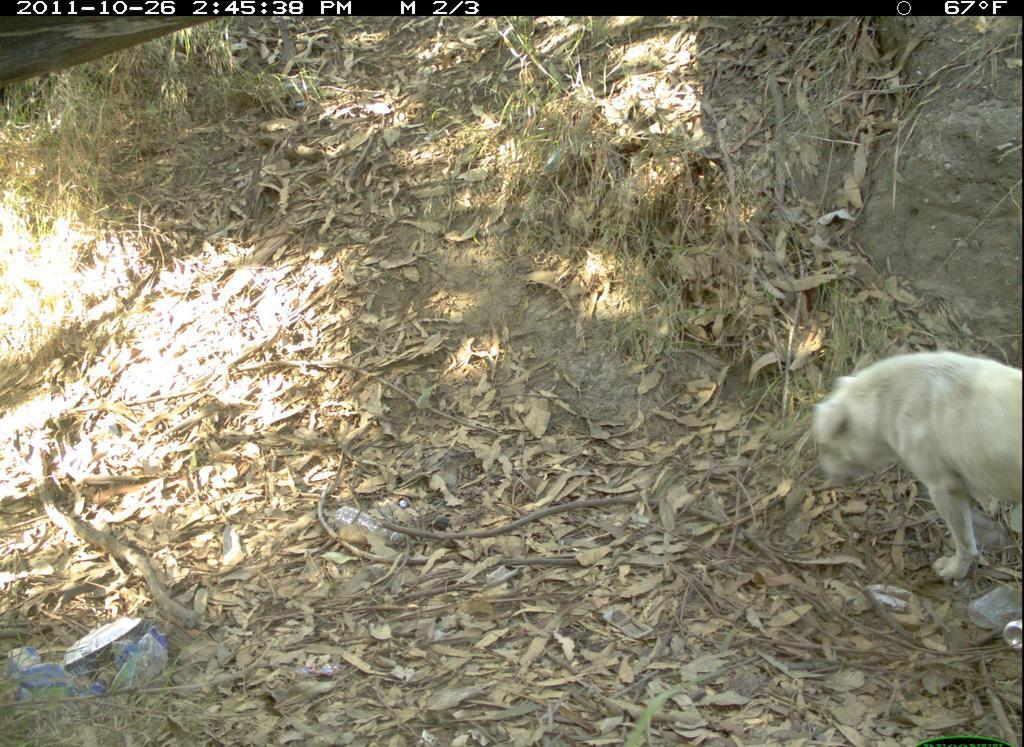dog: (794, 341, 1023, 641)
